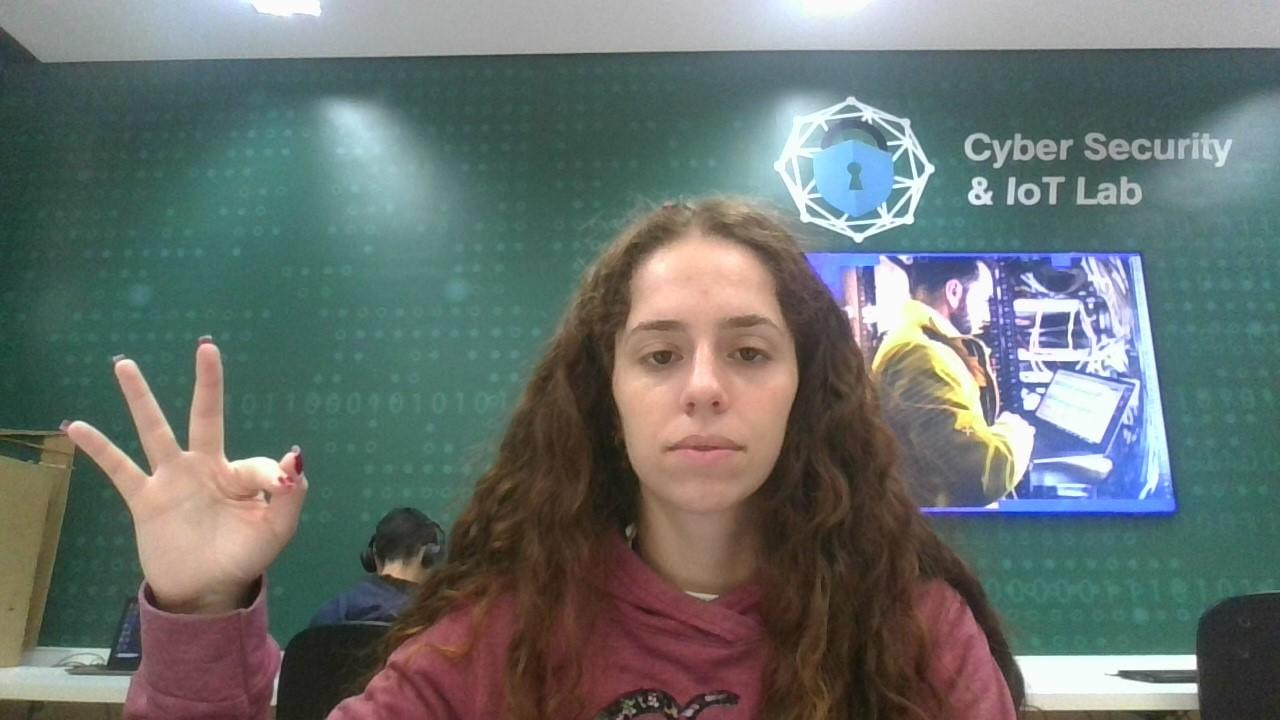F: (40, 315, 358, 648)
